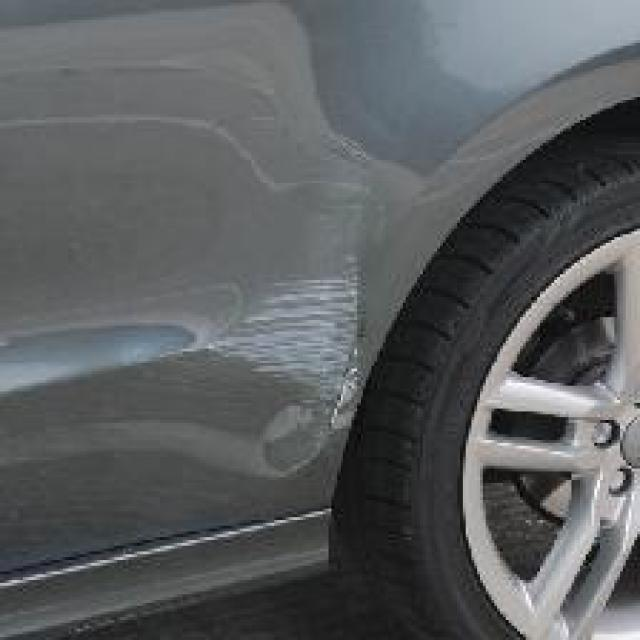damaged: (206, 248, 374, 461), (2, 117, 374, 203)
